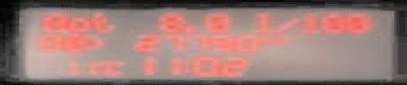-: (182, 24, 194, 31)
0: (201, 11, 231, 32), (189, 54, 218, 75), (342, 13, 371, 33), (231, 34, 259, 52), (319, 13, 343, 32), (37, 34, 63, 49)
1: (300, 11, 316, 33), (139, 55, 156, 74), (165, 56, 182, 74), (64, 60, 78, 74), (84, 60, 96, 75)
2: (219, 55, 247, 77), (130, 33, 161, 51)
7: (163, 33, 187, 50), (189, 34, 208, 51)
8: (156, 13, 182, 30)
9: (208, 33, 231, 52)
X: (88, 10, 113, 33), (41, 11, 66, 30), (252, 10, 271, 34), (272, 18, 298, 33), (66, 15, 88, 31), (103, 60, 122, 75), (272, 35, 288, 43), (260, 35, 272, 43)
